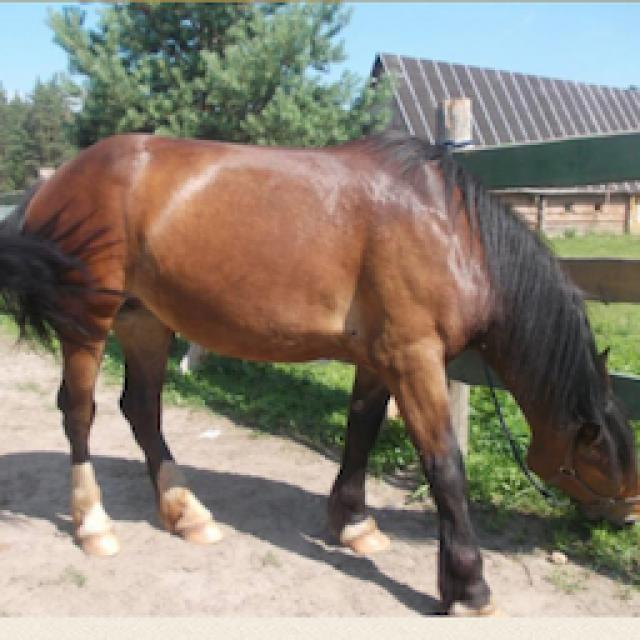Horse: (0, 120, 638, 615)
